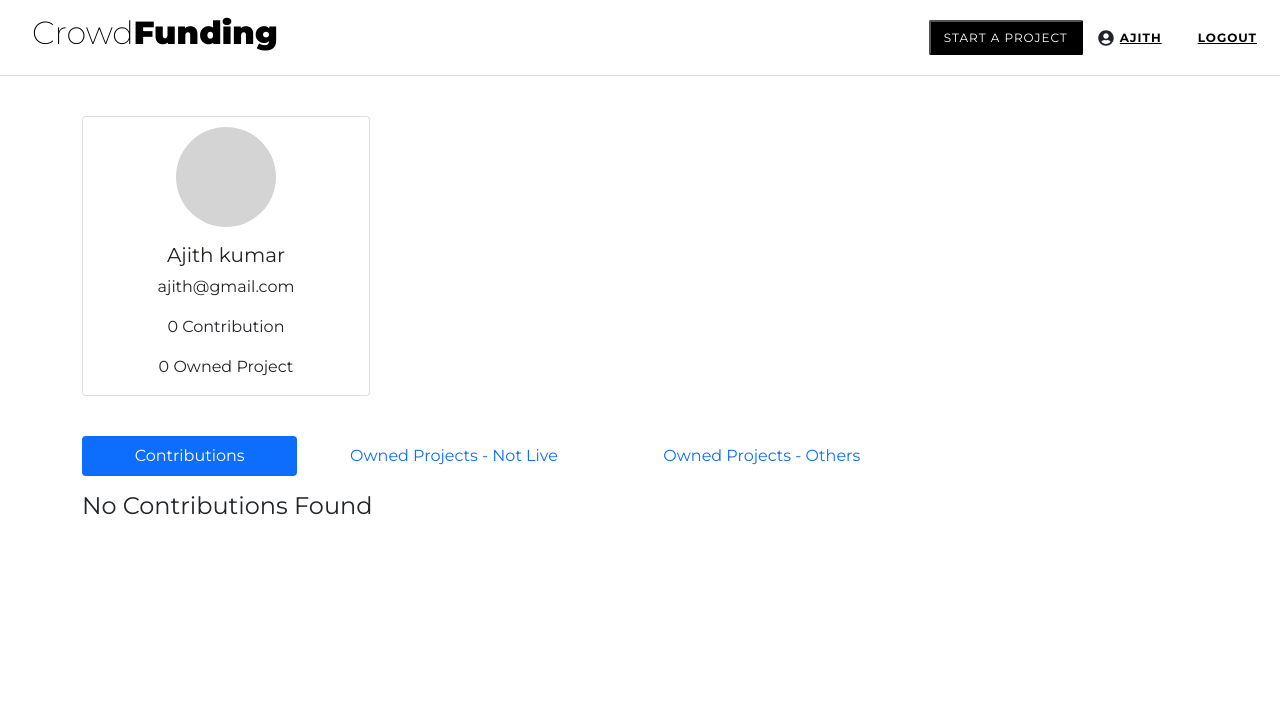
Scenario: Header Component › Start  a project click takes to project/create page
This screenshot has width=1280, height=720.
Click the button "Start a project" at (1006, 38), box [929,20,1083,55]
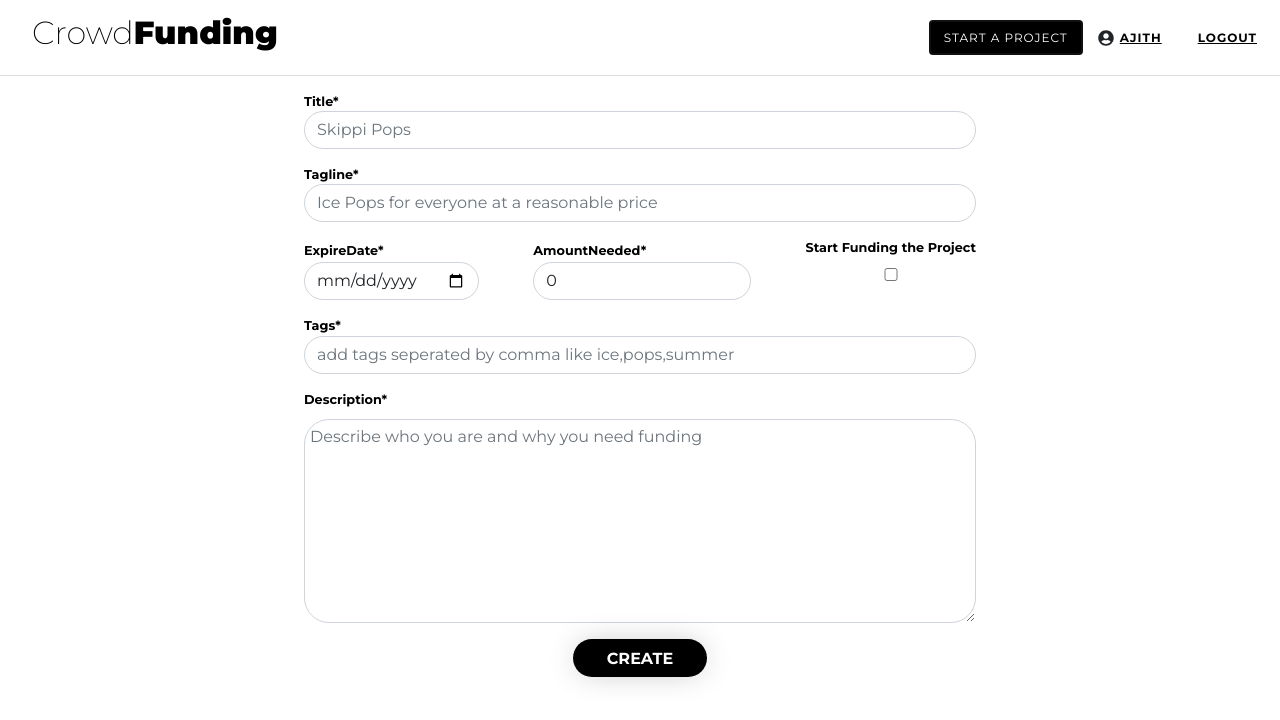
Now the text box named "description" is shown, box [304,419,976,623]
